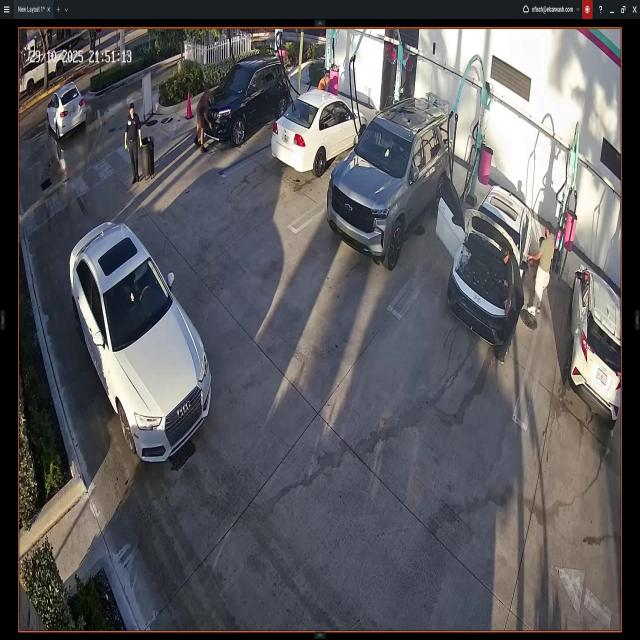Car: (67, 216, 211, 465), (330, 101, 453, 268), (444, 176, 533, 355), (204, 56, 288, 156), (272, 92, 368, 172), (572, 263, 620, 413), (45, 84, 85, 142)
